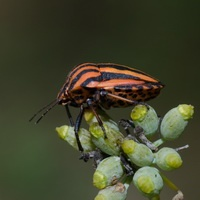insect: (55, 63, 163, 149)
